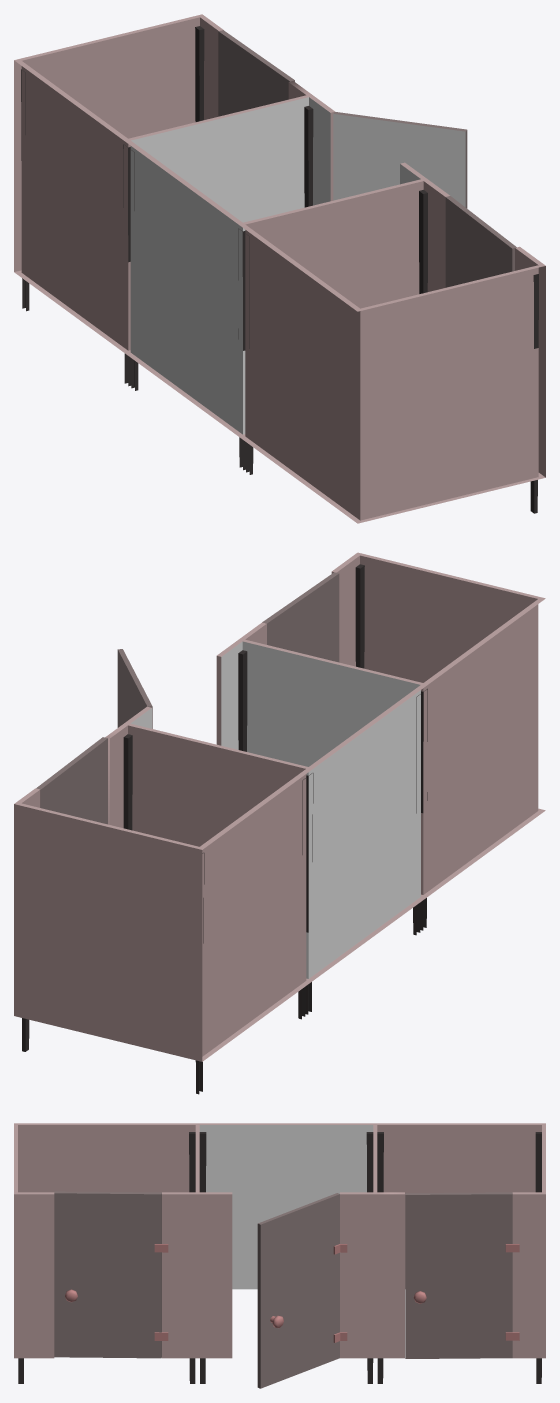
Rendered from toilet.fbx.
The picture shows the model from 3 angles, top to bottom: view 1: azimuth 30°, elevation 25°; view 2: azimuth 150°, elevation 25°; view 3: azimuth 270°, elevation 25°; orthographic projection. The views are drawn at different scales.
Visible parts, largest first — view 1: toilet; view 2: toilet; view 3: toilet.
Boxes of the visible parts, x1,y1,x2,y2 form: toilet: [14, 14, 545, 523]; toilet: [14, 552, 545, 1094]; toilet: [14, 1123, 545, 1388].
Size of the model in its own units: 258 by 227 by 571.
